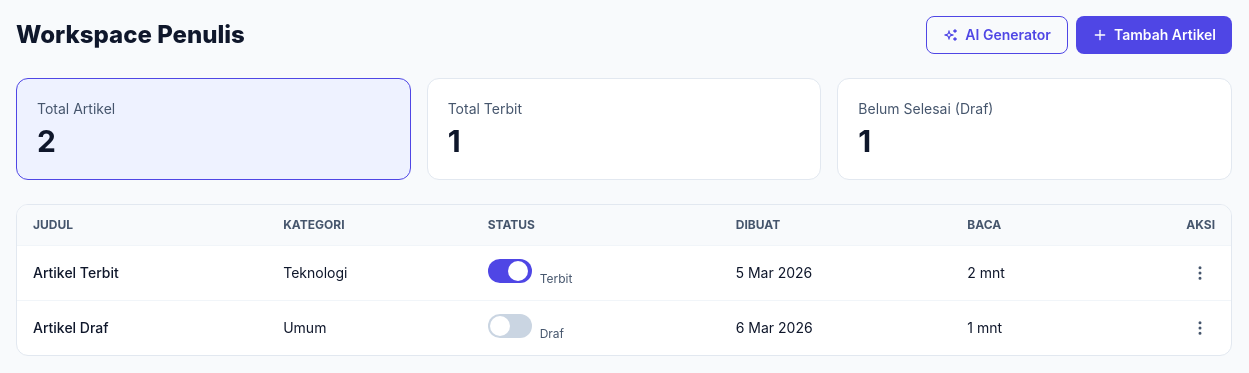
AuthorDashboard › kartu statistik memfilter tabel
The image size is (1249, 373).
Click the button "Belum Selesai (Draf) 1".
click(926, 108)  # box [837,78,1232,180]
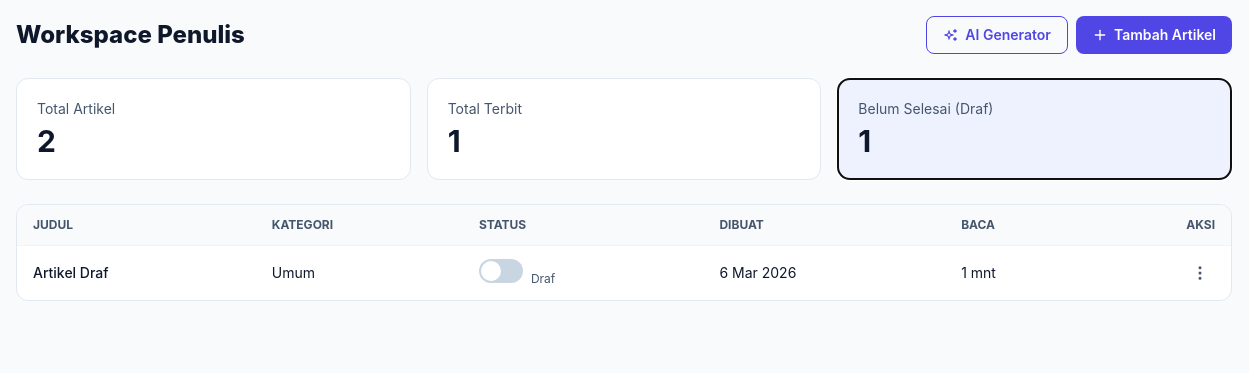
Expected: the text "Artikel Draf" is shown, [17,246,256,300]
Result: the text "Artikel Terbit" is gone
Click the button "Total Terbit 1".
click(485, 108)  # box [427,78,821,180]
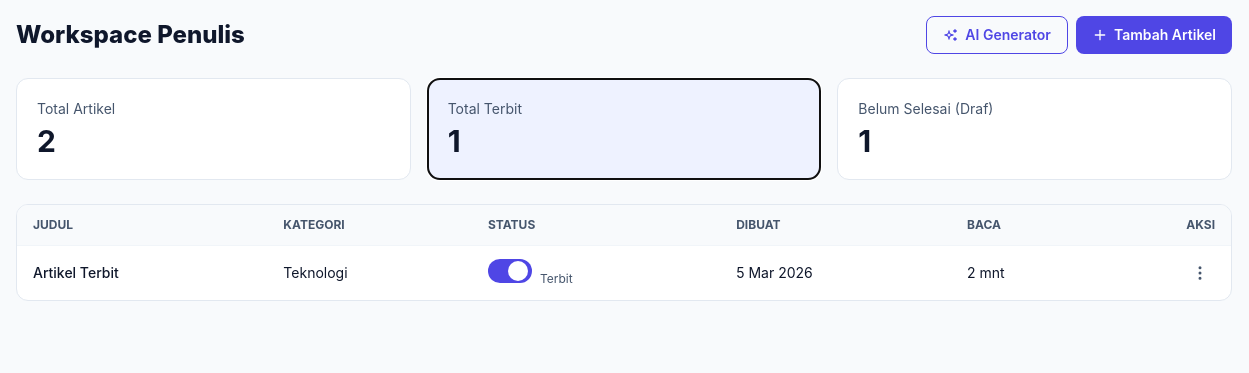
Result: the text "Artikel Terbit" is shown at [17,246,267,300]
Result: the text "Artikel Draf" is gone
Click the button "Total Artikel 2".
click(76, 108)  # box [16,78,411,180]
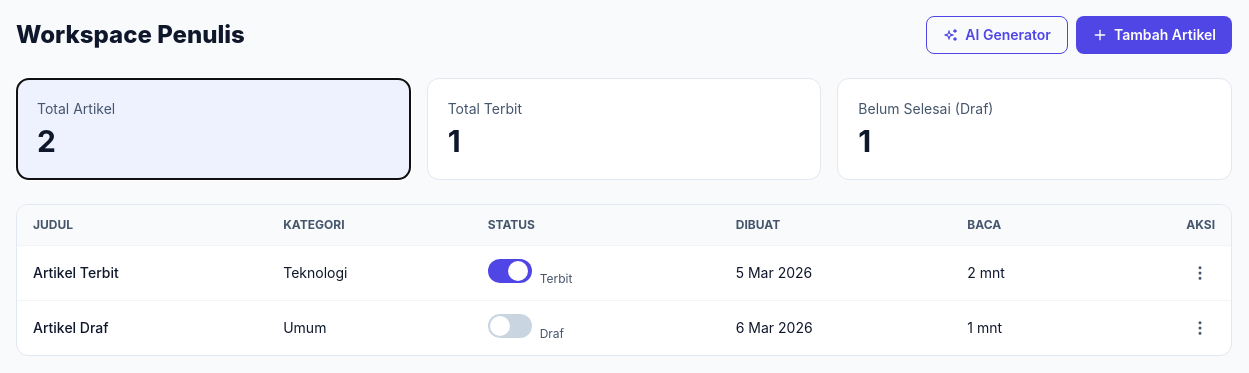
Result: the text "Artikel Draf" is shown at [17,300,267,355]
